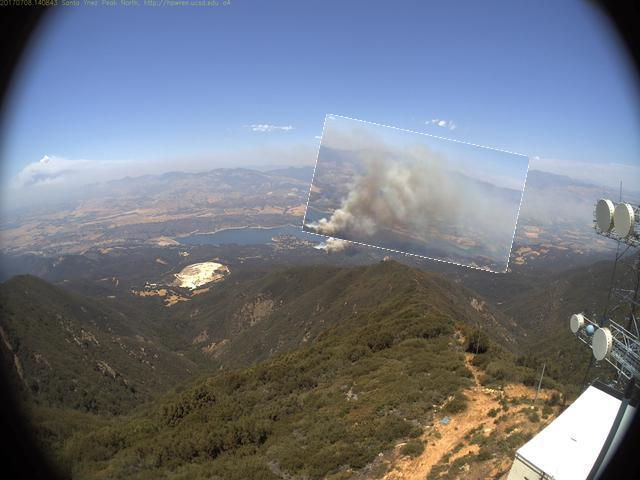smoke: (308, 125, 526, 265)
